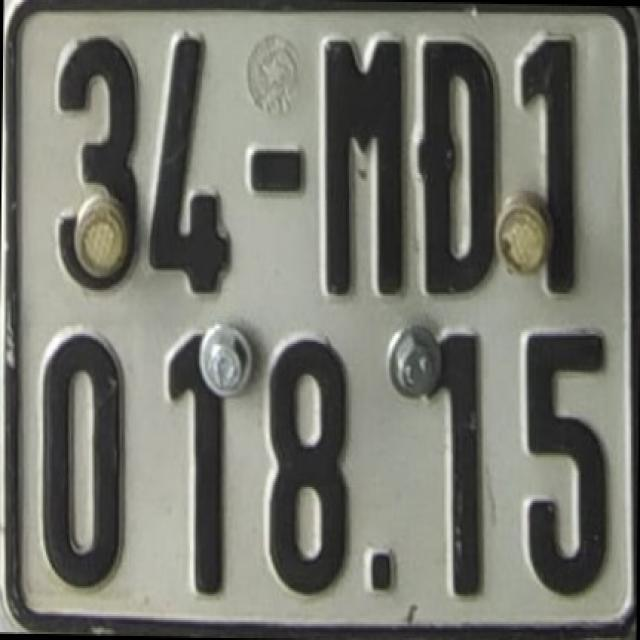0: (37, 323, 134, 594)
1: (393, 320, 502, 608), (160, 320, 251, 600), (516, 20, 588, 302)
3: (49, 22, 144, 294)
4: (147, 25, 241, 298)
5: (518, 320, 614, 602)
8: (261, 322, 358, 600)
D: (414, 32, 502, 300)
M: (313, 22, 407, 302)
